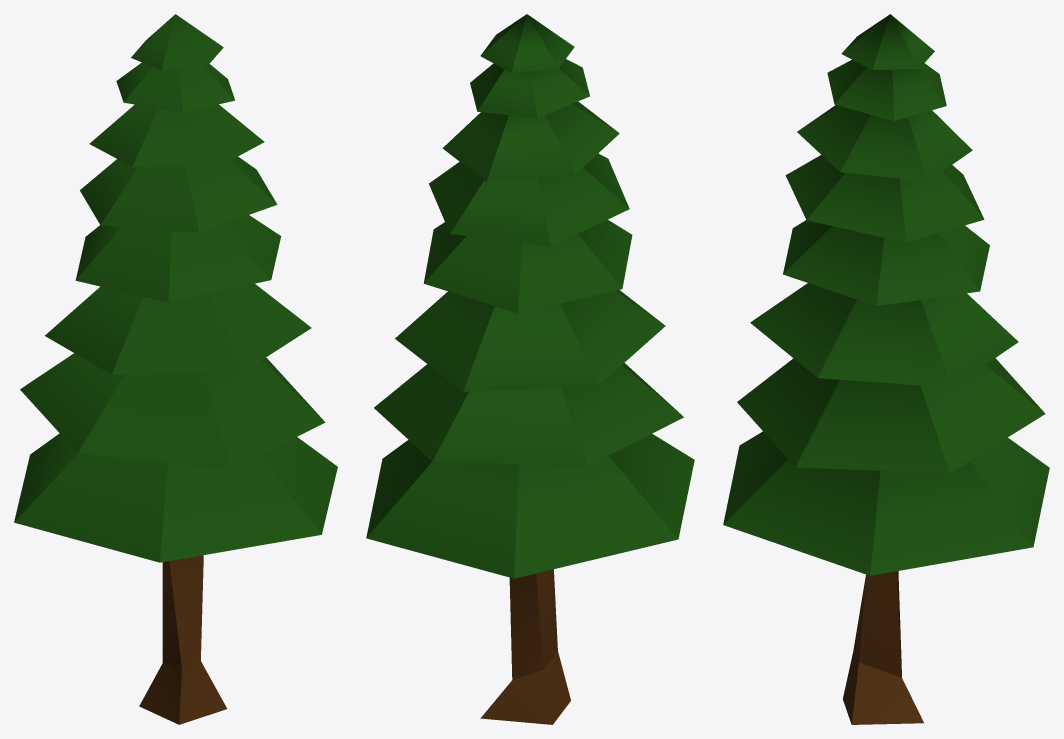
Rendered from Tree4.obj.
The picture shows the model from 3 angles, left to right: view 1: azimuth 30°, elevation 25°; view 2: azimuth 150°, elevation 25°; view 3: azimuth 270°, elevation 25°; orthographic projection.
Parts seen in each view (by area): view 1: Cono_Untitled.089, Cono_1_Untitled.001, Cono_2_Untitled.095, Cono_3_Untitled.037, Cono_4_Untitled.082, Cubo_4_Untitled.067, Cono_5_Untitled.127, Cono_6_Untitled.075, Cono_7_Untitled.036; view 2: Cono_Untitled.089, Cono_1_Untitled.001, Cono_2_Untitled.095, Cono_3_Untitled.037, Cono_4_Untitled.082, Cono_5_Untitled.127, Cubo_4_Untitled.067, Cono_6_Untitled.075, Cono_7_Untitled.036; view 3: Cono_Untitled.089, Cono_1_Untitled.001, Cono_2_Untitled.095, Cono_3_Untitled.037, Cono_4_Untitled.082, Cono_5_Untitled.127, Cubo_4_Untitled.067, Cono_6_Untitled.075, Cono_7_Untitled.036.
Part boxes in pixels (left/top/right/bottom): Cono_Untitled.089: left=14, top=433, right=337, bottom=562; Cono_1_Untitled.001: left=20, top=353, right=325, bottom=469; Cono_2_Untitled.095: left=45, top=283, right=311, bottom=374; Cono_3_Untitled.037: left=75, top=215, right=281, bottom=302; Cono_4_Untitled.082: left=80, top=156, right=277, bottom=232; Cubo_4_Untitled.067: left=139, top=555, right=227, bottom=724; Cono_5_Untitled.127: left=89, top=104, right=264, bottom=166; Cono_6_Untitled.075: left=116, top=62, right=234, bottom=112; Cono_7_Untitled.036: left=131, top=14, right=223, bottom=70; Cono_Untitled.089: left=366, top=434, right=694, bottom=578; Cono_1_Untitled.001: left=374, top=363, right=683, bottom=466; Cono_2_Untitled.095: left=395, top=290, right=665, bottom=391; Cono_3_Untitled.037: left=423, top=219, right=632, bottom=313; Cono_4_Untitled.082: left=429, top=153, right=629, bottom=246; Cono_5_Untitled.127: left=442, top=101, right=619, bottom=182; Cubo_4_Untitled.067: left=480, top=569, right=570, bottom=724; Cono_6_Untitled.075: left=470, top=59, right=589, bottom=118; Cono_7_Untitled.036: left=480, top=14, right=574, bottom=72; Cono_Untitled.089: left=723, top=431, right=1049, bottom=575; Cono_1_Untitled.001: left=737, top=358, right=1045, bottom=473; Cono_2_Untitled.095: left=750, top=283, right=1018, bottom=387; Cono_3_Untitled.037: left=783, top=220, right=989, bottom=305; Cono_4_Untitled.082: left=785, top=155, right=984, bottom=242; Cono_5_Untitled.127: left=797, top=105, right=972, bottom=181; Cubo_4_Untitled.067: left=843, top=571, right=923, bottom=724; Cono_6_Untitled.075: left=827, top=59, right=946, bottom=121; Cono_7_Untitled.036: left=841, top=14, right=934, bottom=69.
Bounding box in the file's own units: 3.45 × 7.38 × 3.14.
